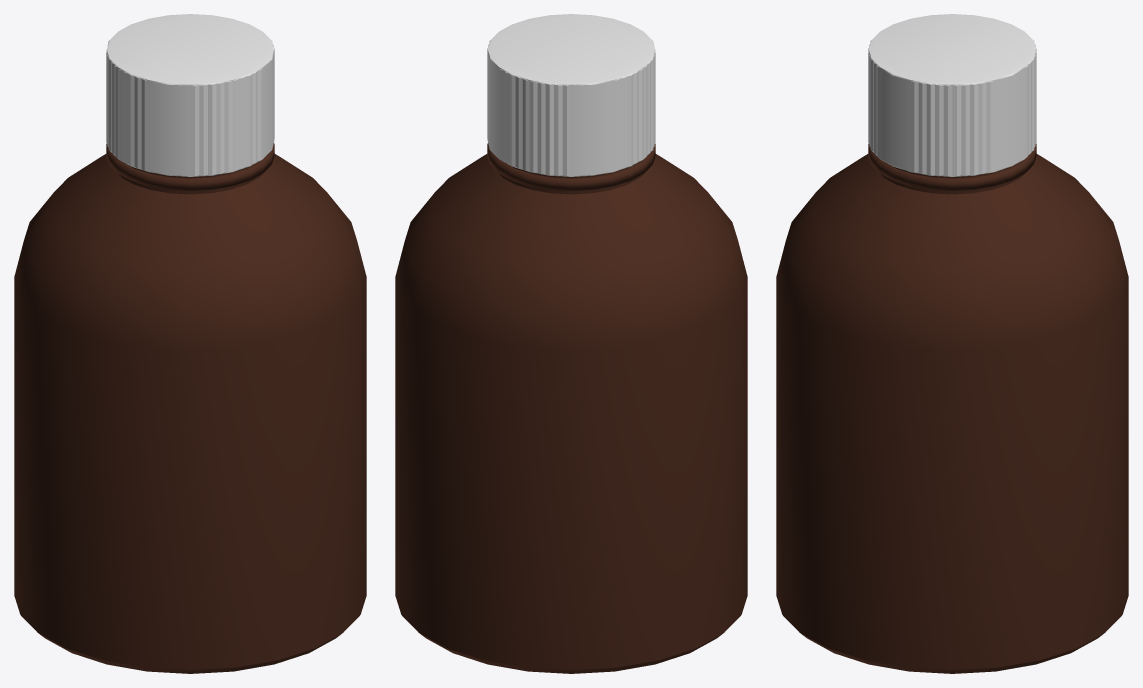
Rendered from bottle.dae.
The picture shows the model from 3 angles, left to right: view 1: azimuth 30°, elevation 25°; view 2: azimuth 150°, elevation 25°; view 3: azimuth 270°, elevation 25°; orthographic projection.
Parts seen in each view (by area): view 1: 4Bottle, 4Cap; view 2: 4Bottle, 4Cap; view 3: 4Bottle, 4Cap.
Boxes of the visible parts, x1=… form: 4Bottle: x1=14, y1=143, x2=366, y2=673; 4Cap: x1=106, y1=14, x2=274, y2=176; 4Bottle: x1=395, y1=143, x2=747, y2=673; 4Cap: x1=487, y1=14, x2=655, y2=176; 4Bottle: x1=776, y1=143, x2=1128, y2=673; 4Cap: x1=868, y1=14, x2=1036, y2=176.
Bounding box in the file's own units: 1.17 × 1.17 × 2.04.
